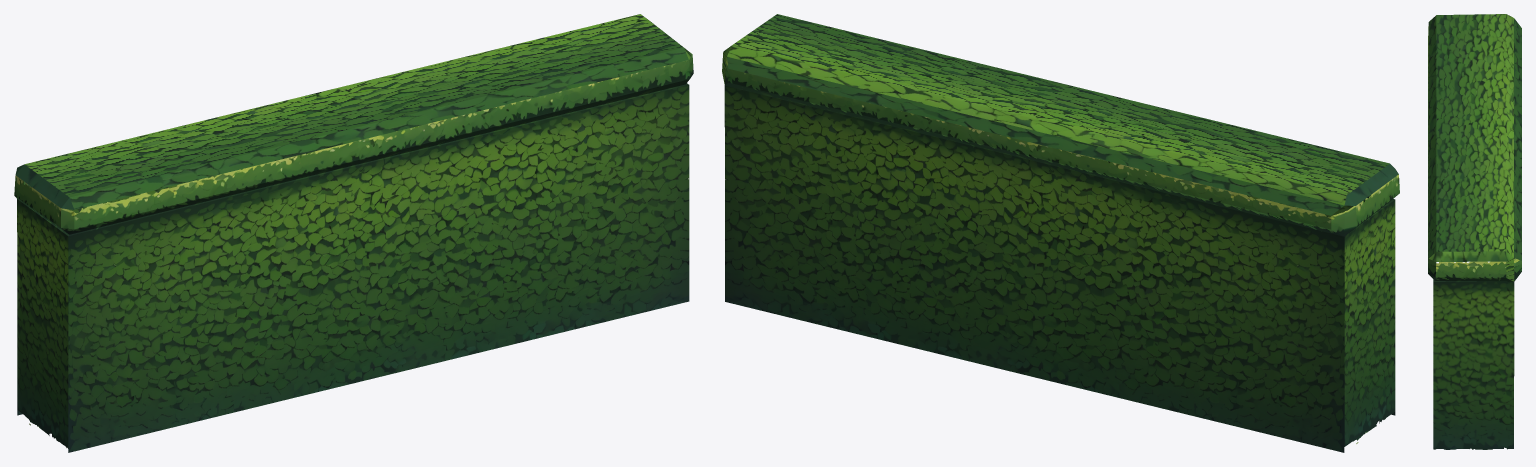
Rendered from Hedge.fbx.
3 views of the same model, side by side, from view 1: azimuth 30°, elevation 25°; view 2: azimuth 150°, elevation 25°; view 3: azimuth 270°, elevation 25° (orthographic). The views are drawn at different scales.
Visible parts, largest first — view 1: Hedgewall; view 2: Hedgewall; view 3: Hedgewall.
Boxes of the visible parts, x1,y1,x2,y2 form: Hedgewall: (14,14,693,452); Hedgewall: (722,14,1399,452); Hedgewall: (1428,14,1521,449).
Bounding box in the file's own units: 414 × 158 × 66.96.
1 material, 1 textured.
